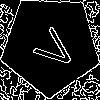V: (25, 20, 79, 75)
